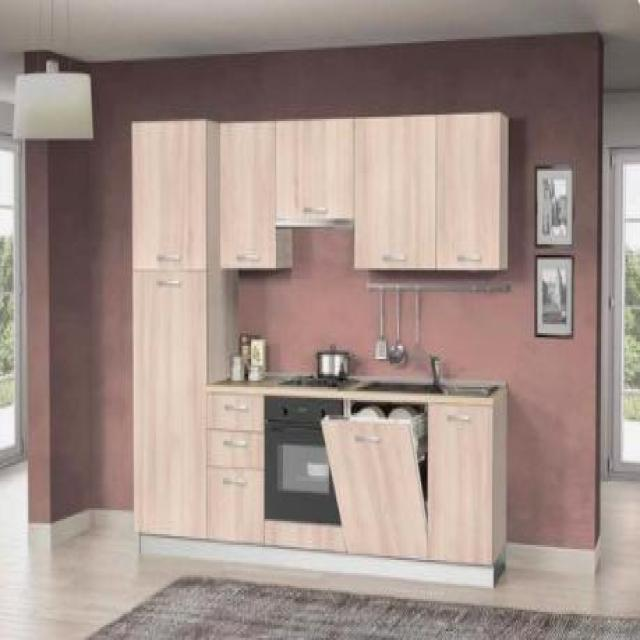dishwasher: (318, 394, 432, 568)
